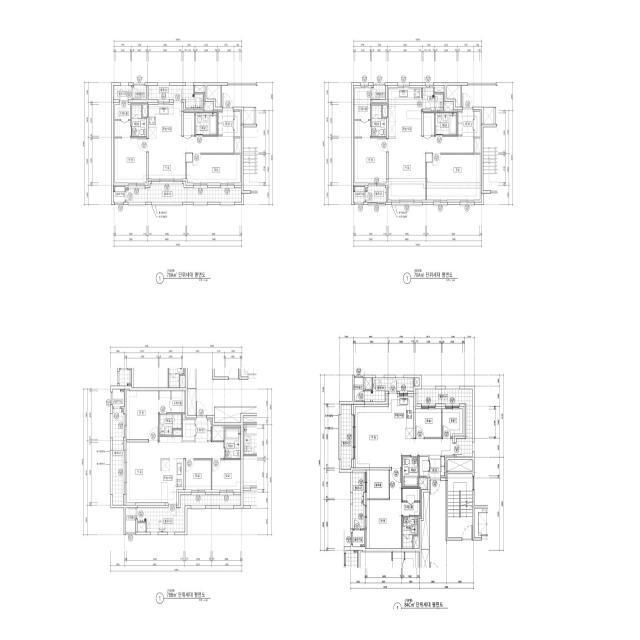space_balconi: (138, 495, 241, 532), (417, 389, 472, 457), (126, 184, 242, 202), (148, 86, 203, 108), (365, 378, 414, 402), (113, 408, 123, 505), (341, 405, 351, 470), (353, 472, 363, 529), (423, 88, 443, 111), (366, 186, 386, 202), (113, 86, 131, 100)
space_bedroom: (367, 470, 401, 548), (427, 154, 480, 200), (127, 391, 158, 439), (187, 155, 240, 183), (115, 138, 146, 183), (355, 138, 386, 183), (212, 460, 241, 490), (185, 460, 211, 490), (415, 409, 441, 437), (442, 409, 462, 437)
space_dressroom: (355, 88, 370, 137), (159, 391, 184, 413), (115, 102, 130, 137), (402, 489, 419, 515)
space_front: (458, 109, 480, 137), (218, 109, 240, 137), (196, 417, 211, 442), (429, 455, 445, 476)
space_kitchen: (388, 88, 422, 137), (148, 102, 182, 137), (389, 394, 413, 439), (160, 458, 183, 503)
space_living_room: (127, 437, 224, 503), (355, 407, 453, 467), (388, 137, 473, 200), (148, 137, 233, 179)
space_multipurpose_space: (367, 470, 389, 498)
space_other: (421, 492, 429, 549), (207, 86, 220, 107), (447, 86, 460, 107), (448, 460, 472, 471), (183, 420, 195, 441), (126, 508, 136, 532), (184, 113, 194, 135), (424, 113, 434, 135), (354, 378, 363, 402), (133, 86, 146, 100), (243, 108, 254, 124), (483, 108, 494, 124), (419, 457, 428, 476), (372, 86, 385, 99), (212, 427, 224, 441), (474, 138, 480, 153), (419, 478, 427, 488), (365, 378, 372, 389), (235, 138, 240, 153), (204, 103, 213, 111), (444, 103, 453, 111), (138, 523, 146, 532), (195, 86, 205, 93), (434, 88, 444, 93), (383, 105, 387, 117), (143, 105, 147, 117), (414, 536, 418, 548), (173, 430, 182, 435), (415, 378, 419, 386)
space_outdoor_room: (113, 389, 124, 407), (353, 186, 365, 202), (353, 530, 364, 547), (113, 187, 125, 202)
space_staircase: (448, 474, 472, 538)
space_toilet: (435, 113, 457, 135), (195, 113, 217, 135), (159, 414, 182, 435), (402, 457, 418, 487), (371, 105, 386, 137), (225, 428, 241, 458), (402, 517, 417, 548), (132, 105, 146, 137)
